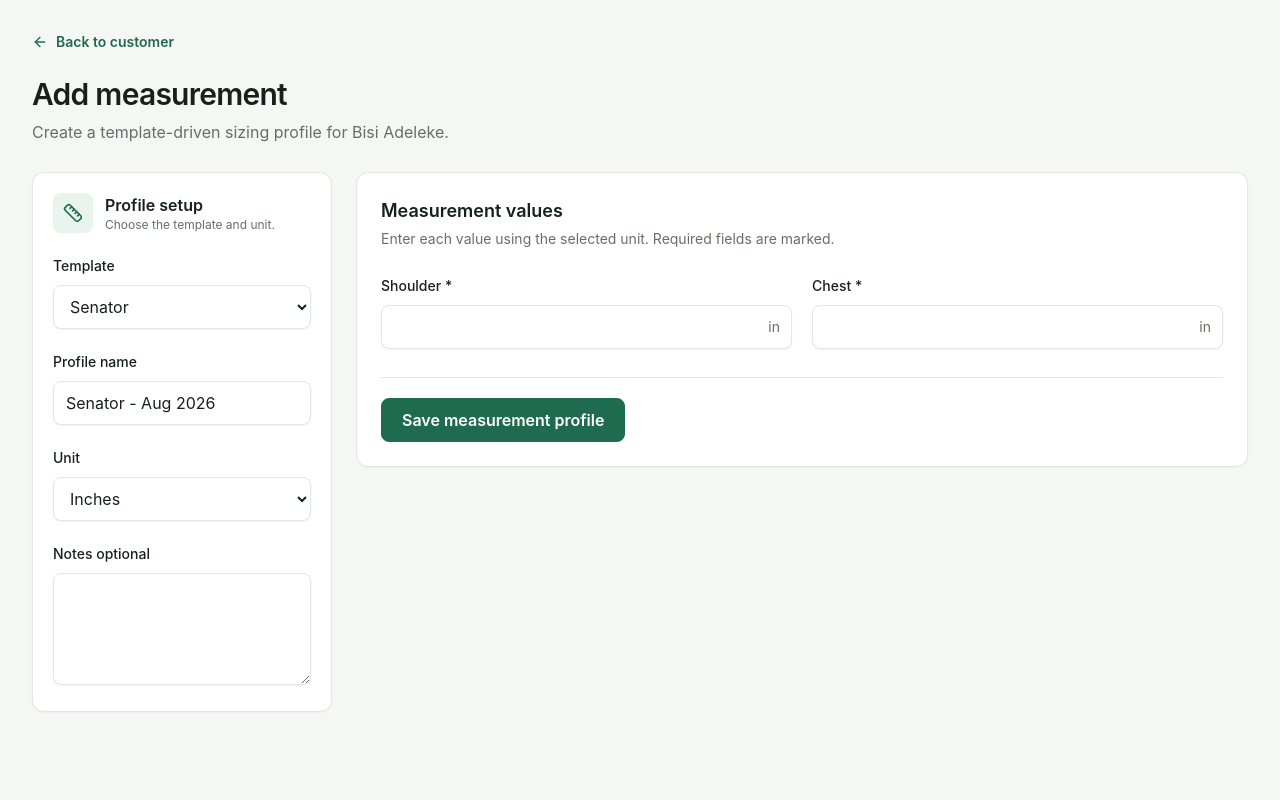
it: required template measurements show validation errors
Check: the text "Shoulder *" is shown, box top-left (381, 277), bottom-right (452, 294)
Click the button "Save measurement profile" at (503, 420), box top-left (381, 398), bottom-right (625, 442)
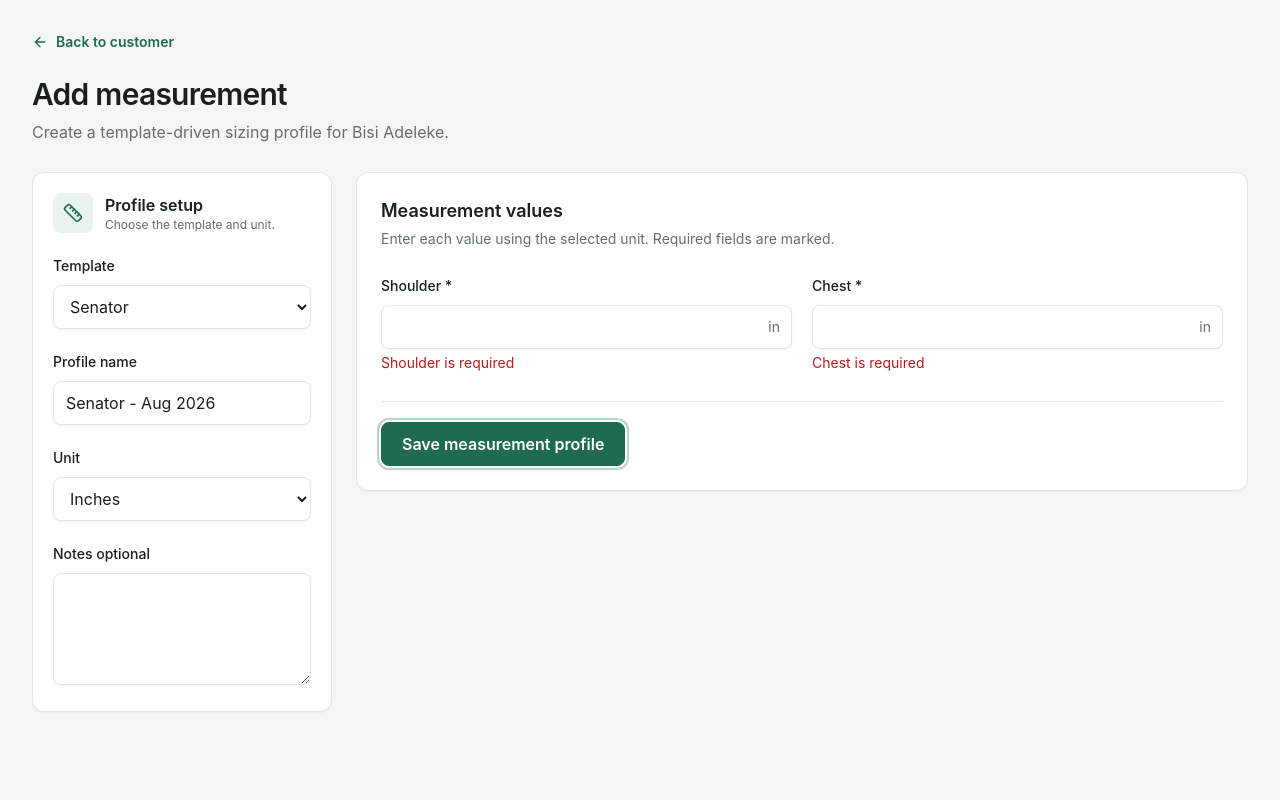
Check: the text "Shoulder is required" is shown, box top-left (381, 354), bottom-right (514, 371)
